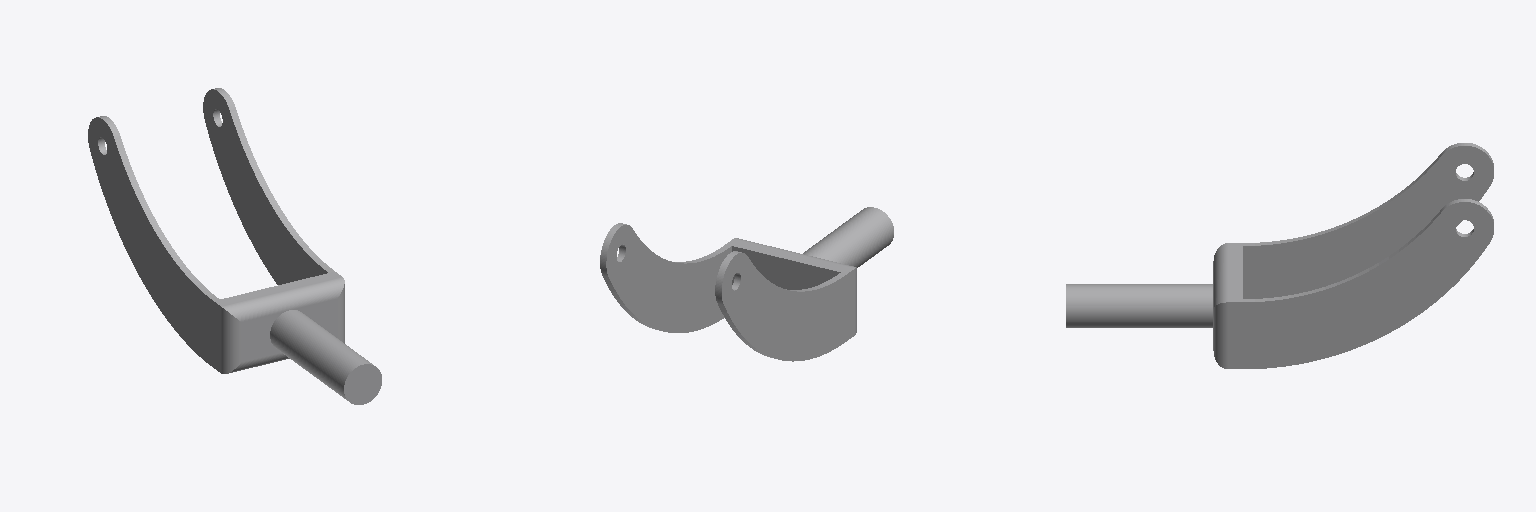
The model's file is caster_left_visual.obj.
3 renders of one model, left to right at view 1: azimuth 30°, elevation 25°; view 2: azimuth 150°, elevation 25°; view 3: azimuth 270°, elevation 25°, orthographic.
Visible parts, largest first — view 1: caster_left_visual.001; view 2: caster_left_visual.001; view 3: caster_left_visual.001.
Boxes of the visible parts, x1,y1,x2,y2 form: caster_left_visual.001: [88, 88, 381, 404]; caster_left_visual.001: [600, 207, 893, 361]; caster_left_visual.001: [1066, 143, 1493, 368].
Size of the model in its own units: 0.0603 by 0.0794 by 0.1841.